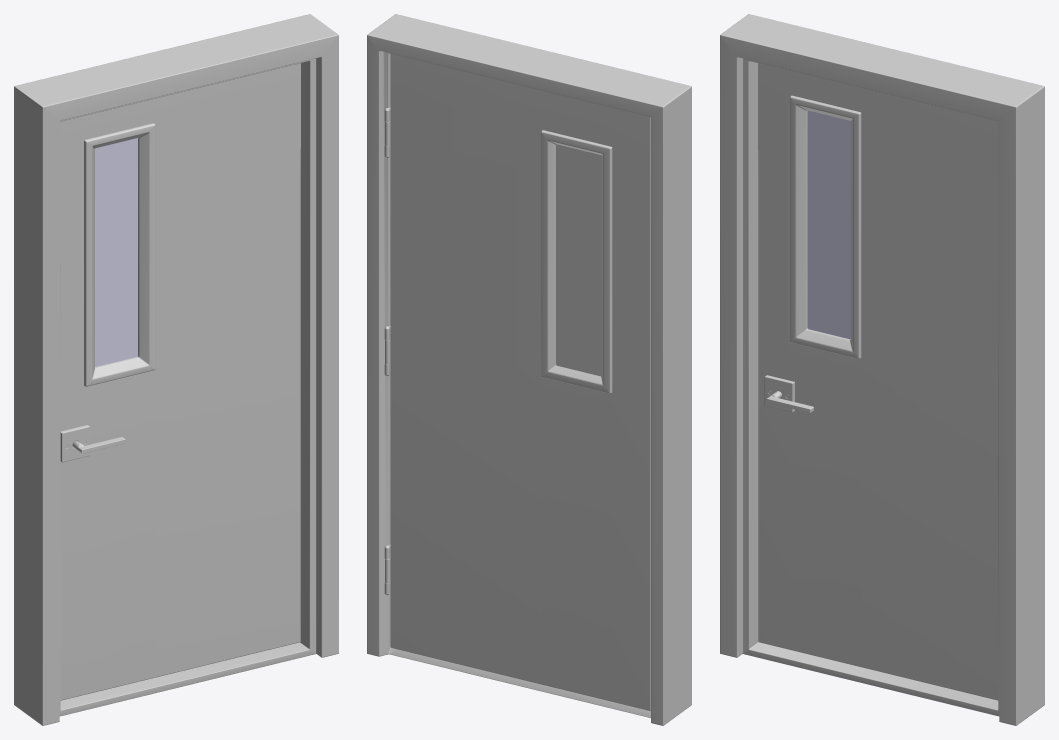
The model's file is DoorB_GEO.fbx.
3 renders of one model, left to right at view 1: azimuth 30°, elevation 25°; view 2: azimuth 150°, elevation 25°; view 3: azimuth 330°, elevation 25°, orthographic.
Parts seen in each view (by area): view 1: DoorB_GEO; view 2: DoorB_GEO; view 3: DoorB_GEO.
Boxes of the visible parts, x1,y1,x2,y2 form: DoorB_GEO: (14, 14, 338, 725); DoorB_GEO: (367, 14, 691, 725); DoorB_GEO: (720, 14, 1044, 725).
Bounding box in the file's own units: 107 × 213 × 17.99.
